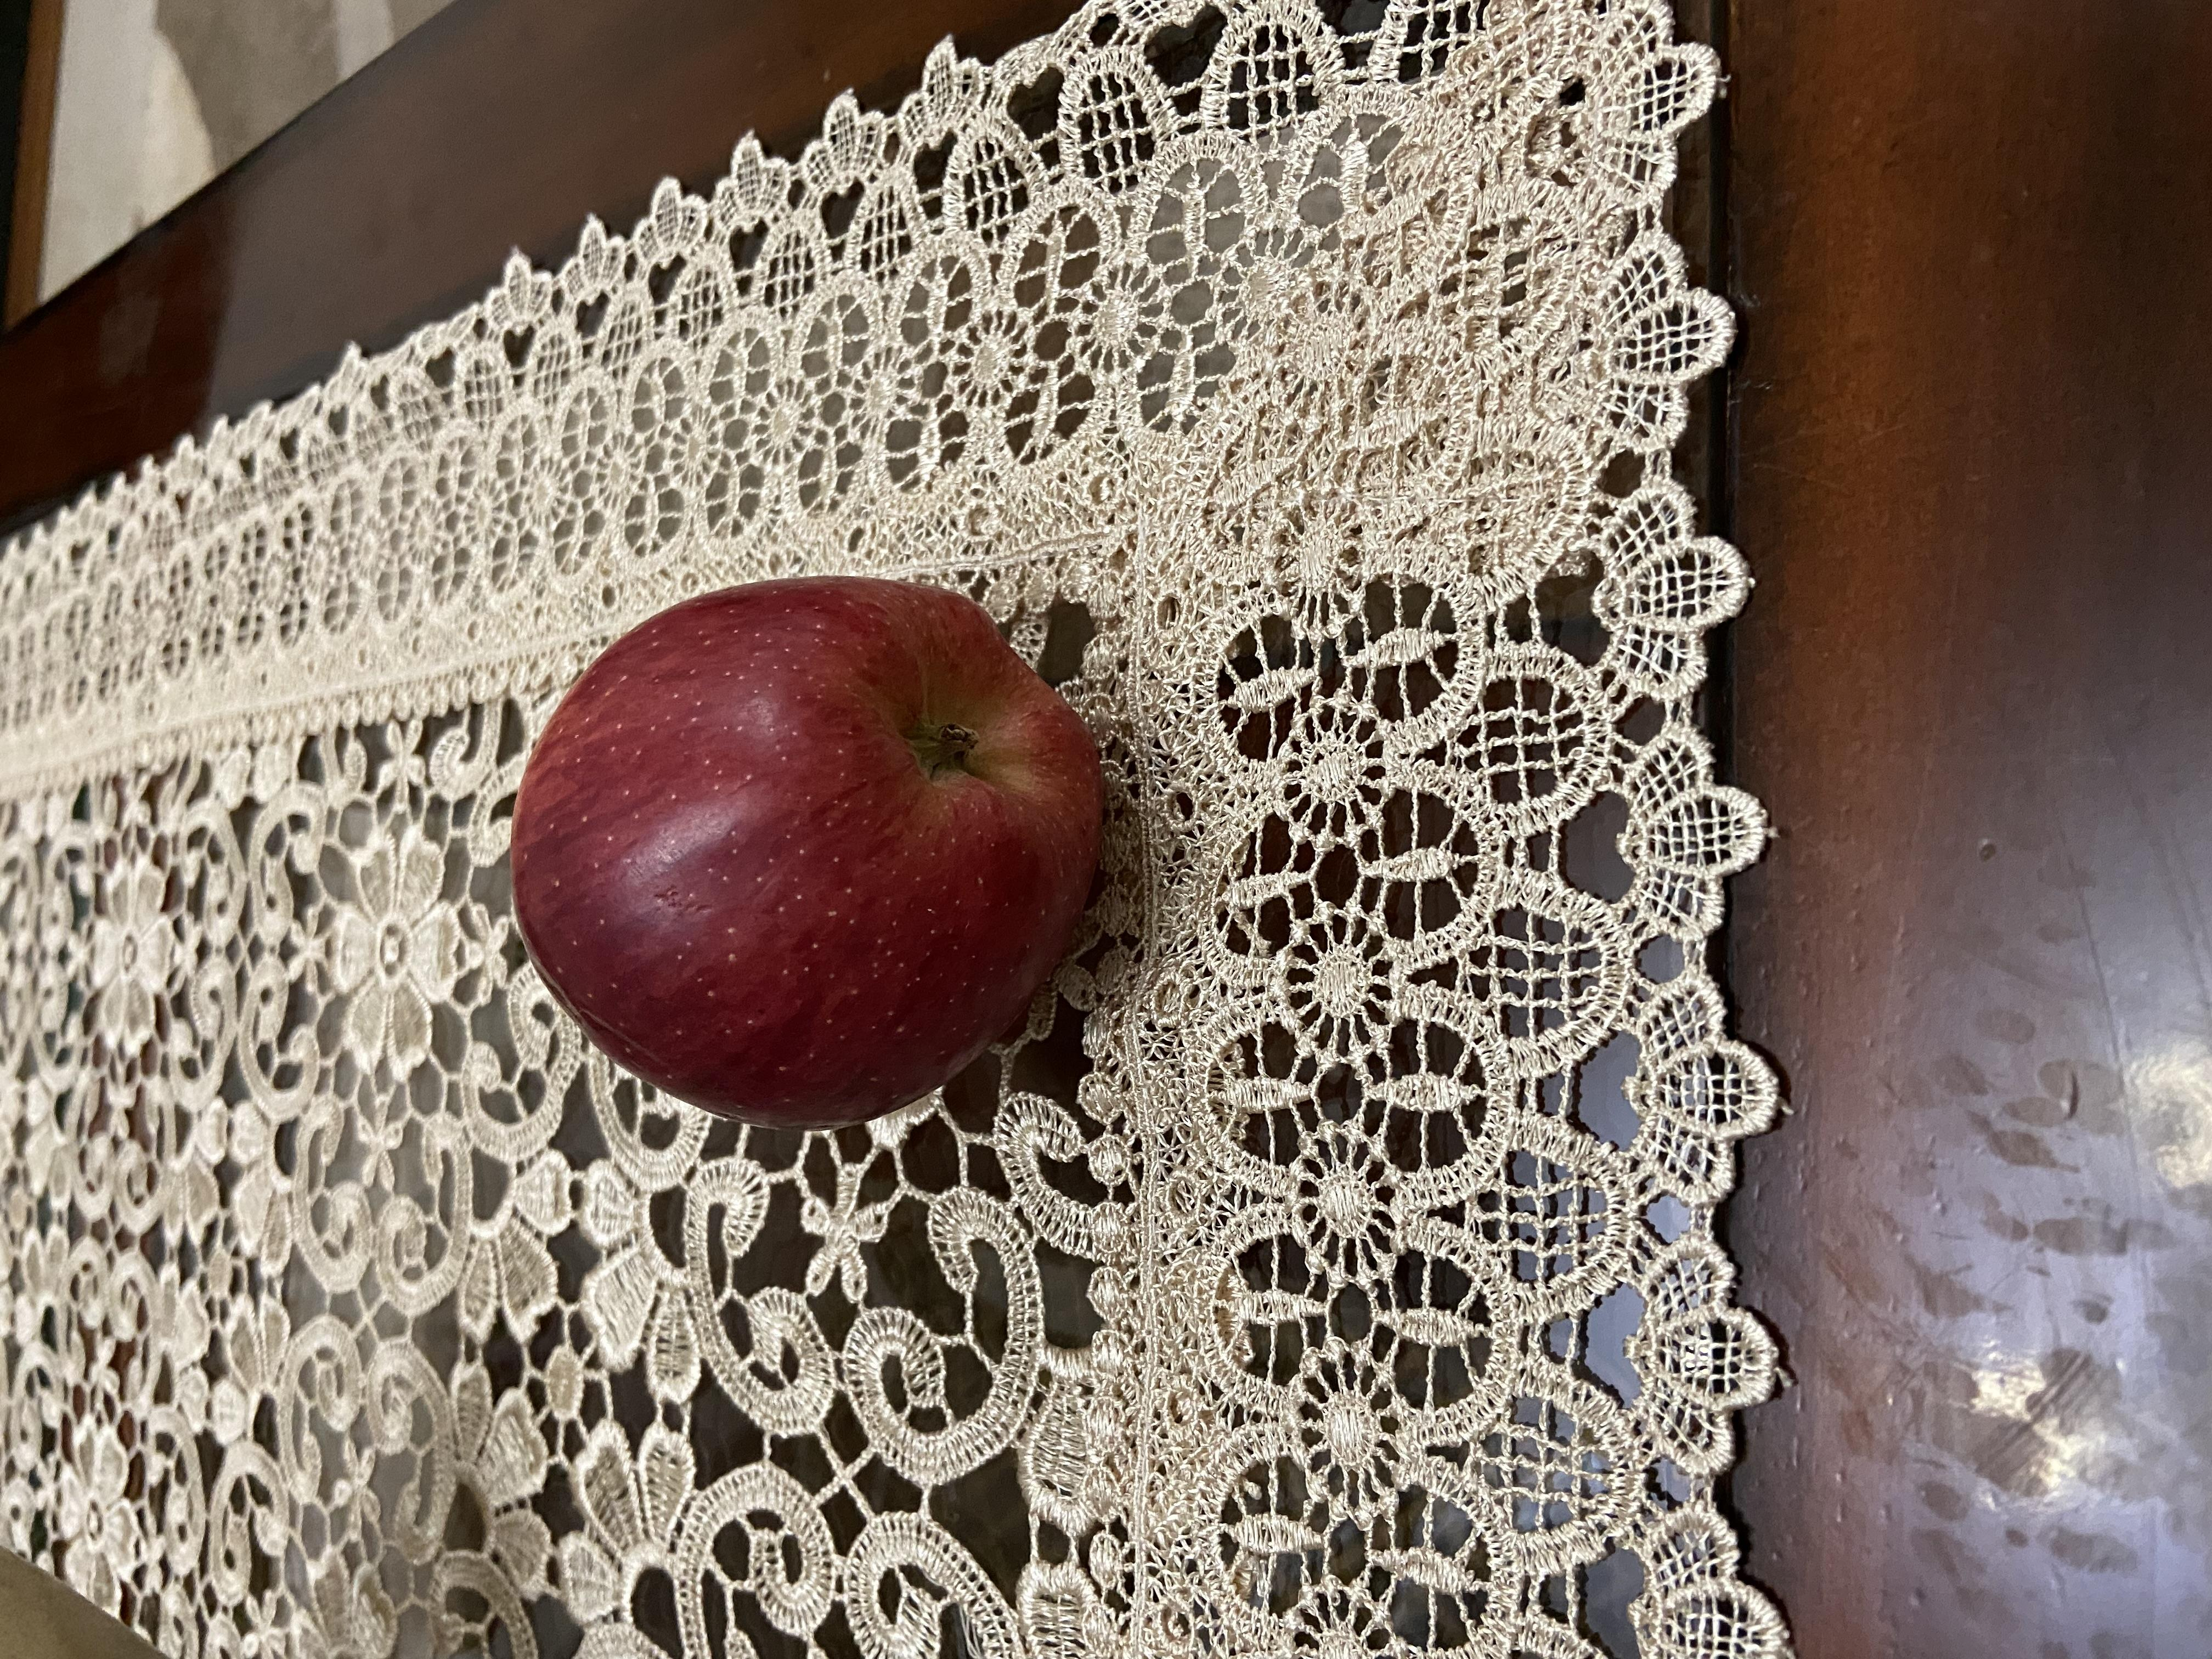Apple: (712, 378, 1479, 847)
